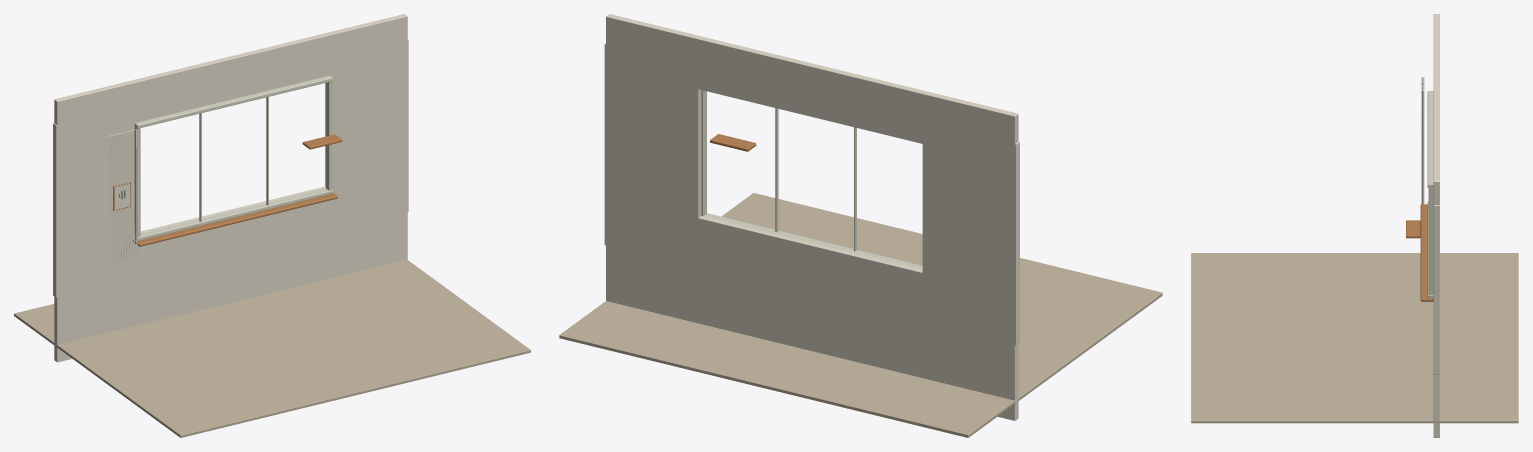
Rendered from room.glb.
3 views of the same model, side by side, from view 1: azimuth 30°, elevation 25°; view 2: azimuth 150°, elevation 25°; view 3: azimuth 270°, elevation 25° (orthographic). The views are drawn at different scales.
Parts seen in each view (by area): view 1: Architectural room and panoramic window, OakWindowSill; view 2: Architectural room and panoramic window; view 3: Architectural room and panoramic window, OakWindowSill, LinenCurtain0.
Boxes of the visible parts, box(x1,y1,x2,y2) form: Architectural room and panoramic window: box(14, 14, 530, 437); OakWindowSill: box(133, 192, 337, 246); Architectural room and panoramic window: box(559, 14, 1162, 437); Architectural room and panoramic window: box(1191, 14, 1518, 437); OakWindowSill: box(1420, 204, 1433, 301); LinenCurtain0: box(1421, 90, 1424, 204).
Size of the model in its own units: 17.1 by 12.1 by 14.
